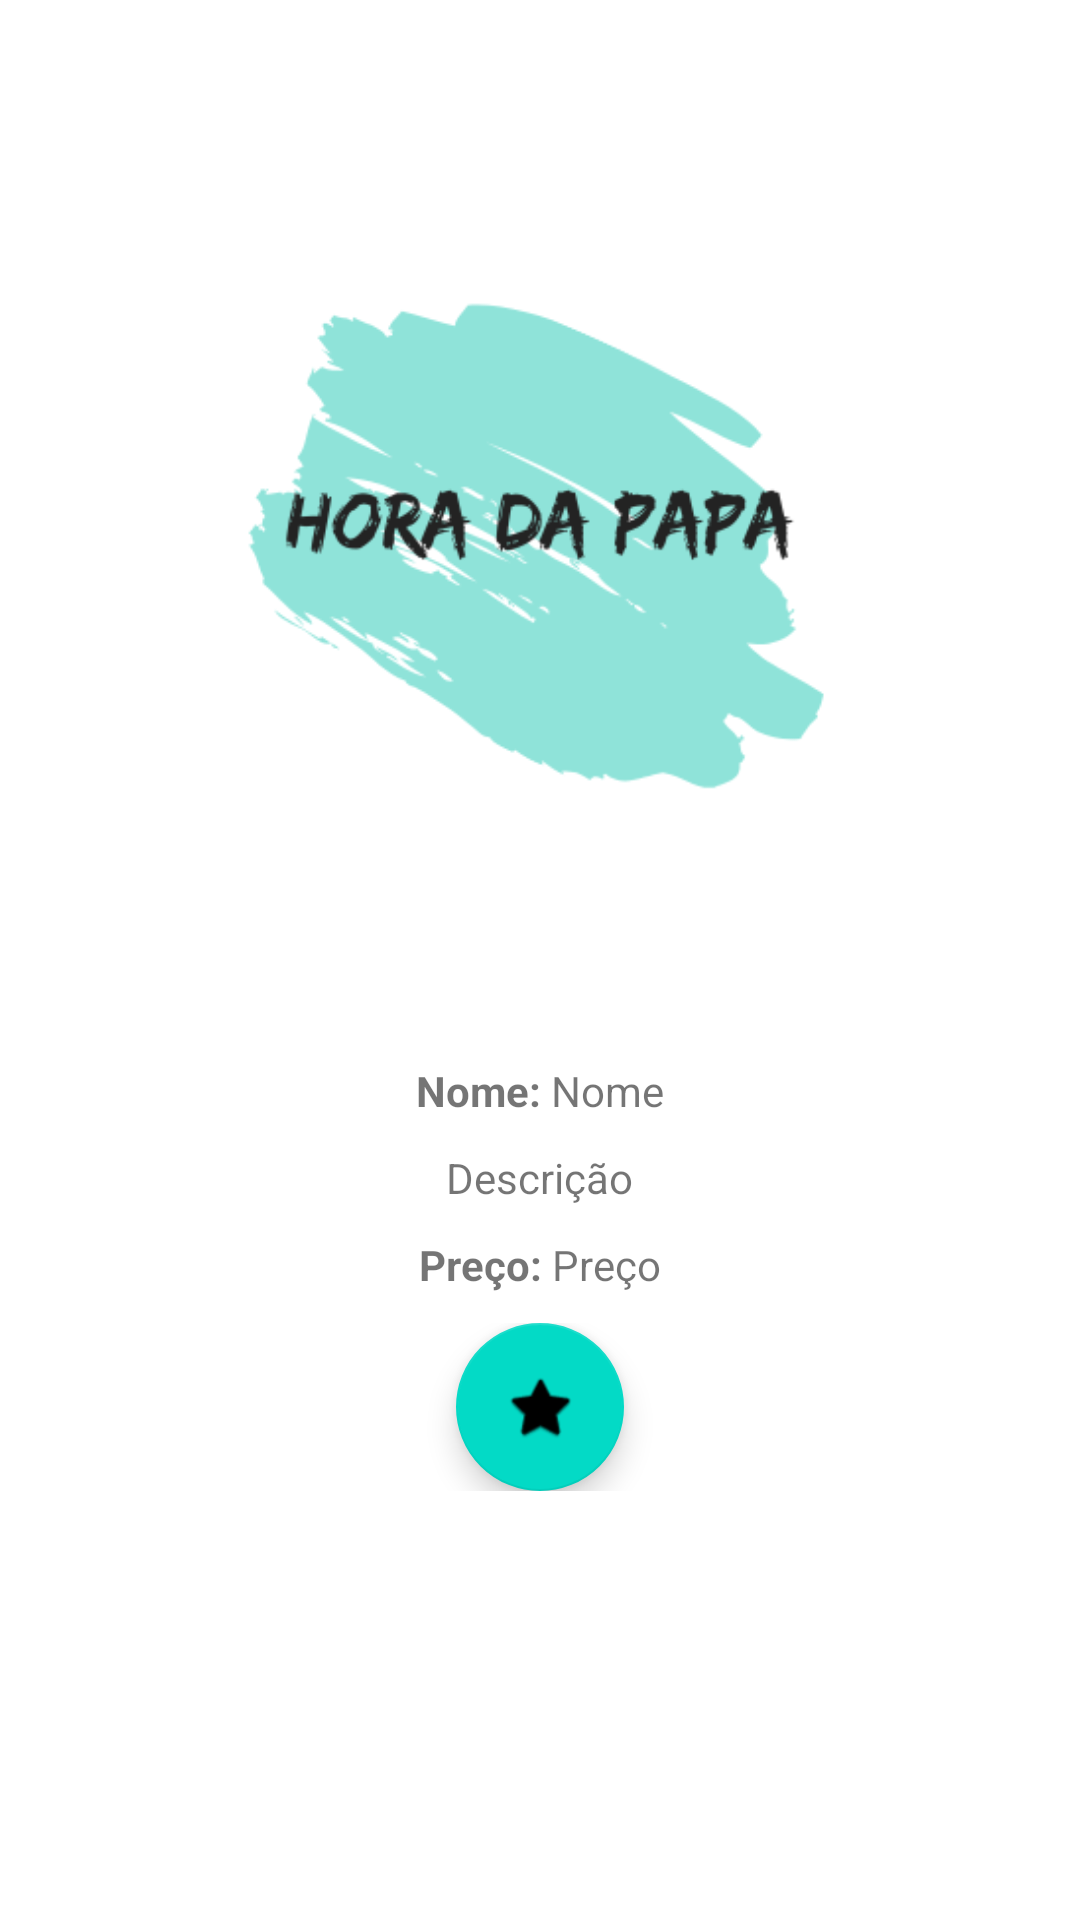

Icon click points for this 1080 × 1920 phone screenshot, format (x,y):
star on: (540,1407)
